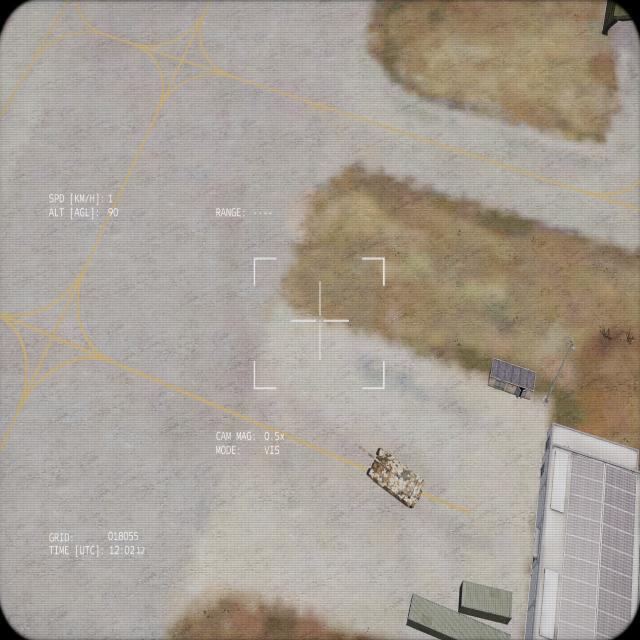tank: (352, 440, 427, 510)
